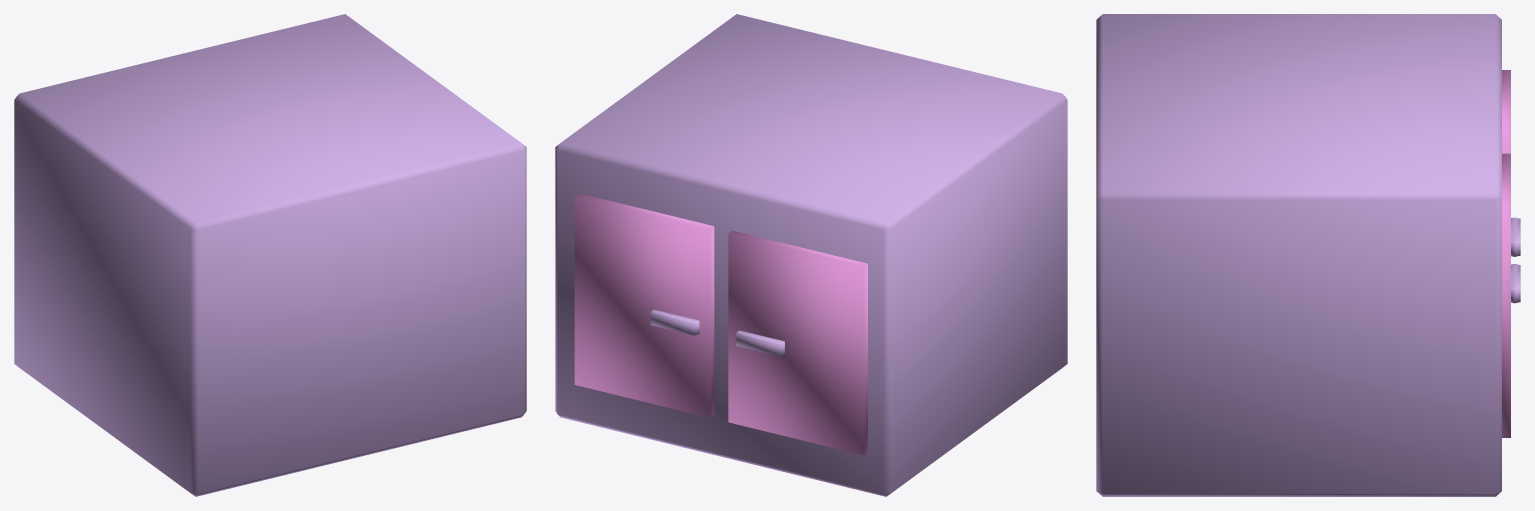
The model's file is props_placard_cuisine.fbx.
3 renders of one model, left to right at view 1: azimuth 30°, elevation 25°; view 2: azimuth 150°, elevation 25°; view 3: azimuth 270°, elevation 25°, orthographic. The views are drawn at different scales.
Visible parts, largest first — view 1: Cube.037; view 2: Cube.037; view 3: Cube.037.
Boxes of the visible parts, x1,y1,x2,y2 form: Cube.037: (14, 14, 526, 496); Cube.037: (555, 14, 1067, 496); Cube.037: (1096, 14, 1520, 496).
Size of the model in its own units: 1.26 by 1.24 by 0.9839.
